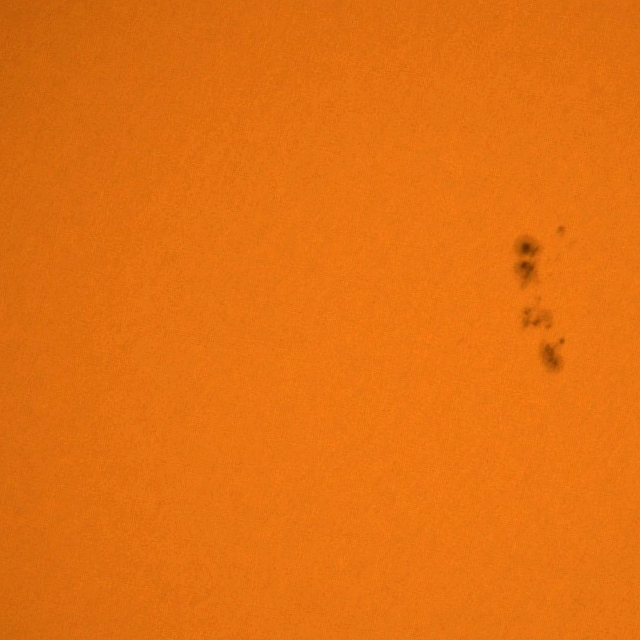sunspot: (518, 297, 556, 333), (516, 236, 542, 282), (542, 334, 568, 373), (555, 224, 566, 238)
